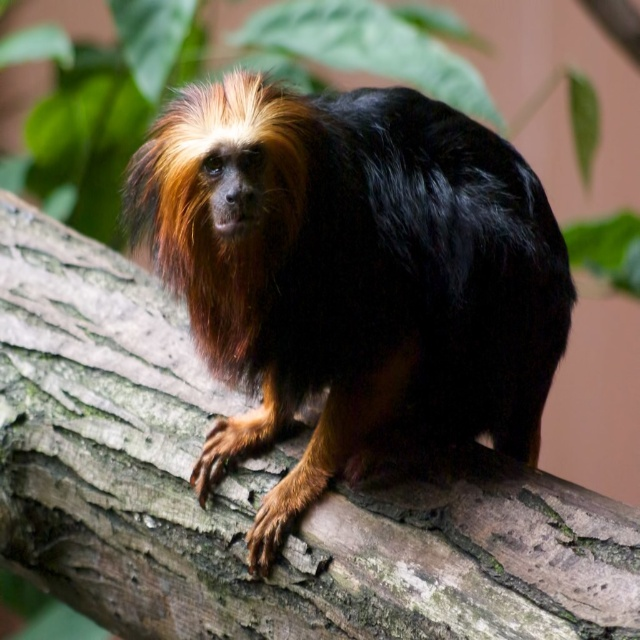Monkey: (140, 60, 582, 609)
